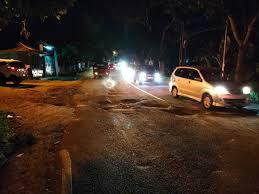Pothole: (92, 90, 197, 120), (39, 80, 78, 116)
